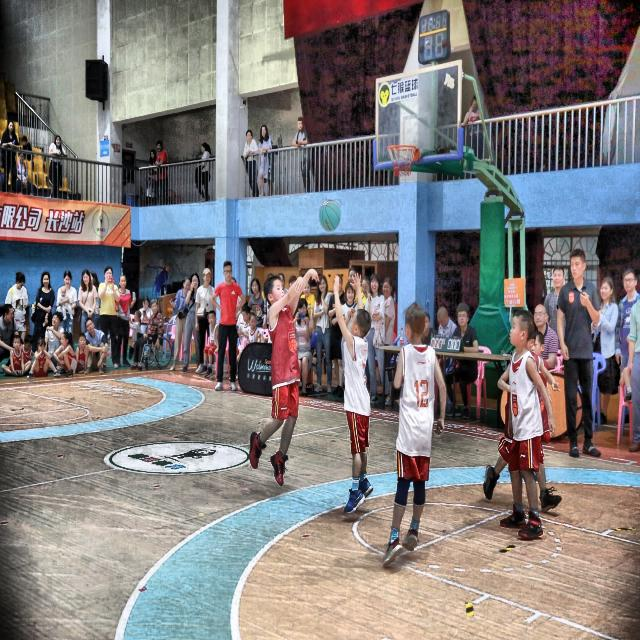board: (320, 199, 340, 232)
rim: (384, 144, 418, 178)
